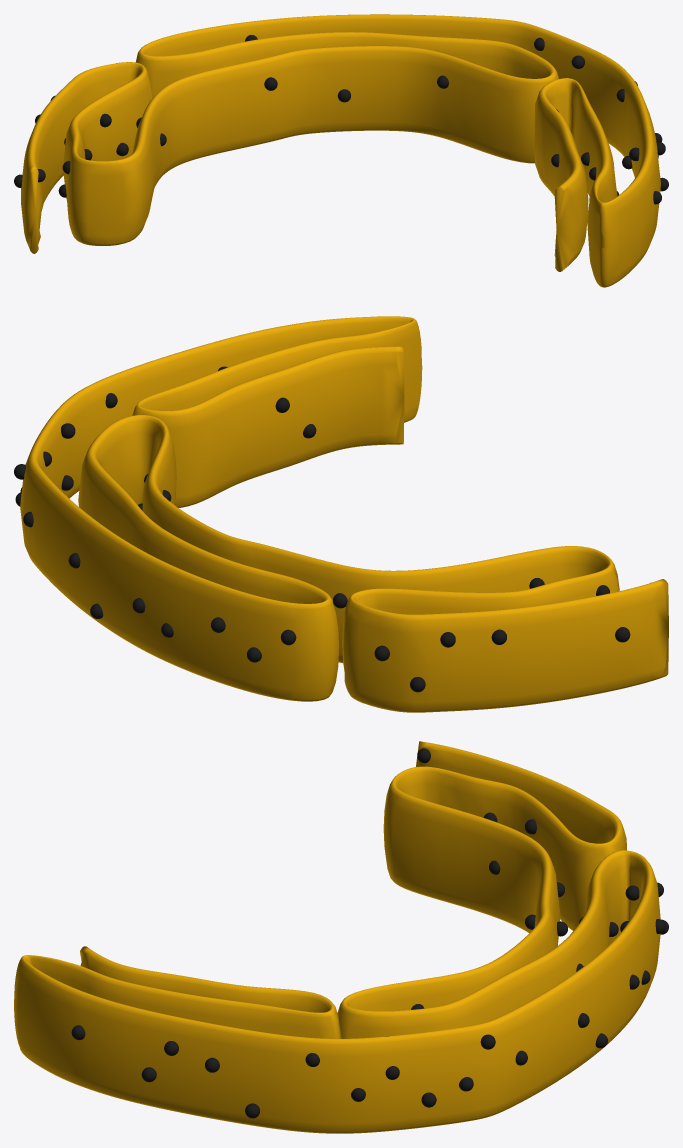
File: rerFBX.fbx
3 renders of one model, top to bottom at view 1: azimuth 30°, elevation 25°; view 2: azimuth 150°, elevation 25°; view 3: azimuth 270°, elevation 25°, orthographic. The views are drawn at different scales.
Visible parts, largest first — view 1: pSphere146; view 2: pSphere146; view 3: pSphere146.
Boxes of the visible parts, box(x1,y1,x2,y2) form: pSphere146: box(14, 14, 668, 287); pSphere146: box(14, 316, 668, 712); pSphere146: box(14, 741, 668, 1133).
Bounding box in the file's own units: 46.62 × 6.68 × 41.9.
